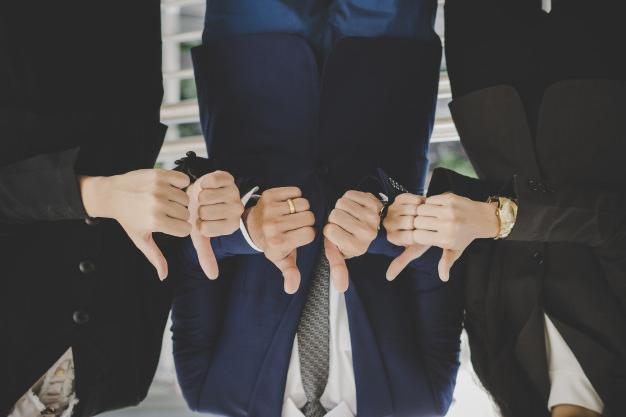thumbsdown: (134, 169, 192, 281), (258, 187, 316, 294), (323, 190, 381, 293), (193, 172, 244, 282), (414, 194, 458, 282), (382, 192, 419, 282)
